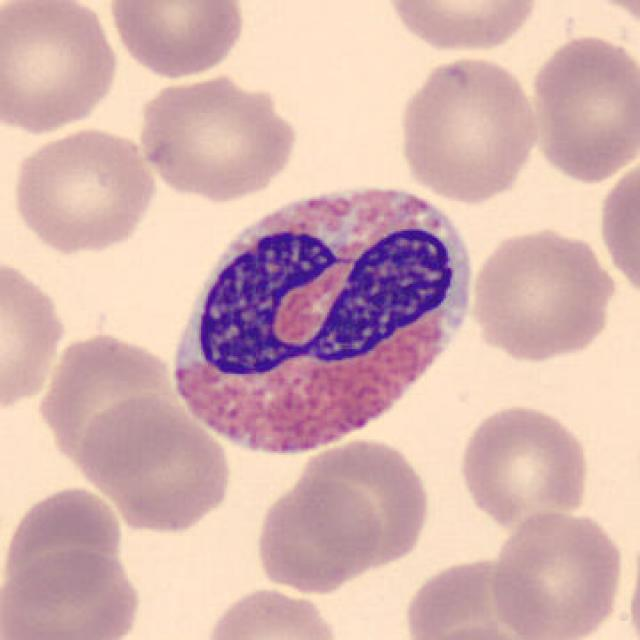Eosinophil: (158, 162, 491, 473)
RBC: (74, 391, 234, 536), (393, 53, 542, 204), (134, 70, 300, 202), (37, 330, 178, 481), (468, 224, 618, 365), (7, 124, 160, 255), (295, 432, 434, 571), (487, 506, 628, 640), (455, 400, 594, 531), (523, 30, 638, 185), (0, 0, 123, 138), (251, 474, 382, 596), (2, 481, 126, 605), (0, 545, 146, 640), (398, 552, 550, 640), (105, 0, 249, 81), (0, 250, 69, 417), (380, 0, 542, 55), (199, 583, 343, 640), (594, 152, 638, 305), (412, 622, 540, 640), (579, 0, 640, 37), (624, 522, 640, 640)
